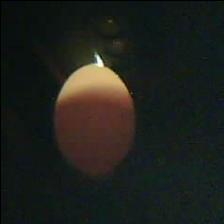fertile: (50, 61, 136, 177)
